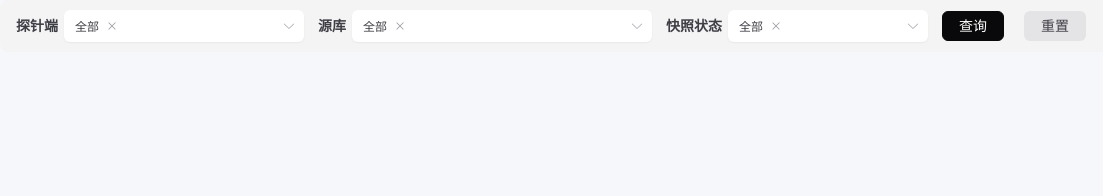
Scenario: DataSourceSnapshotQueryBar 控件宽度与下拉面板宽度约束（UI §16.5，DSS-REQ-075，AC-085） › 打开探针端下拉时挂载专属 popper-class（命名空间化，不污染全局下拉样式）
Click the element showing "全部" next to "探针端" at [184, 26], box [64,10,304,42]
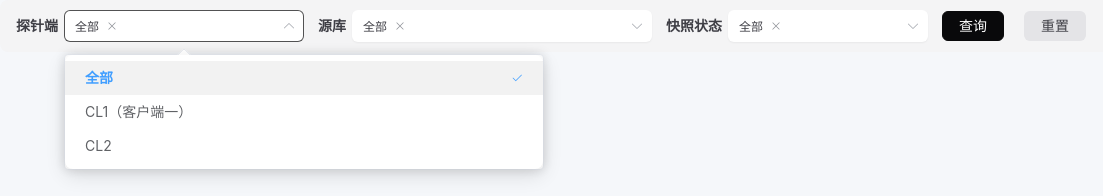
Check: the element with class "dss-client-popper" showing "全部 CL1（客户端一） CL2" is shown, box [65,55,543,169]
